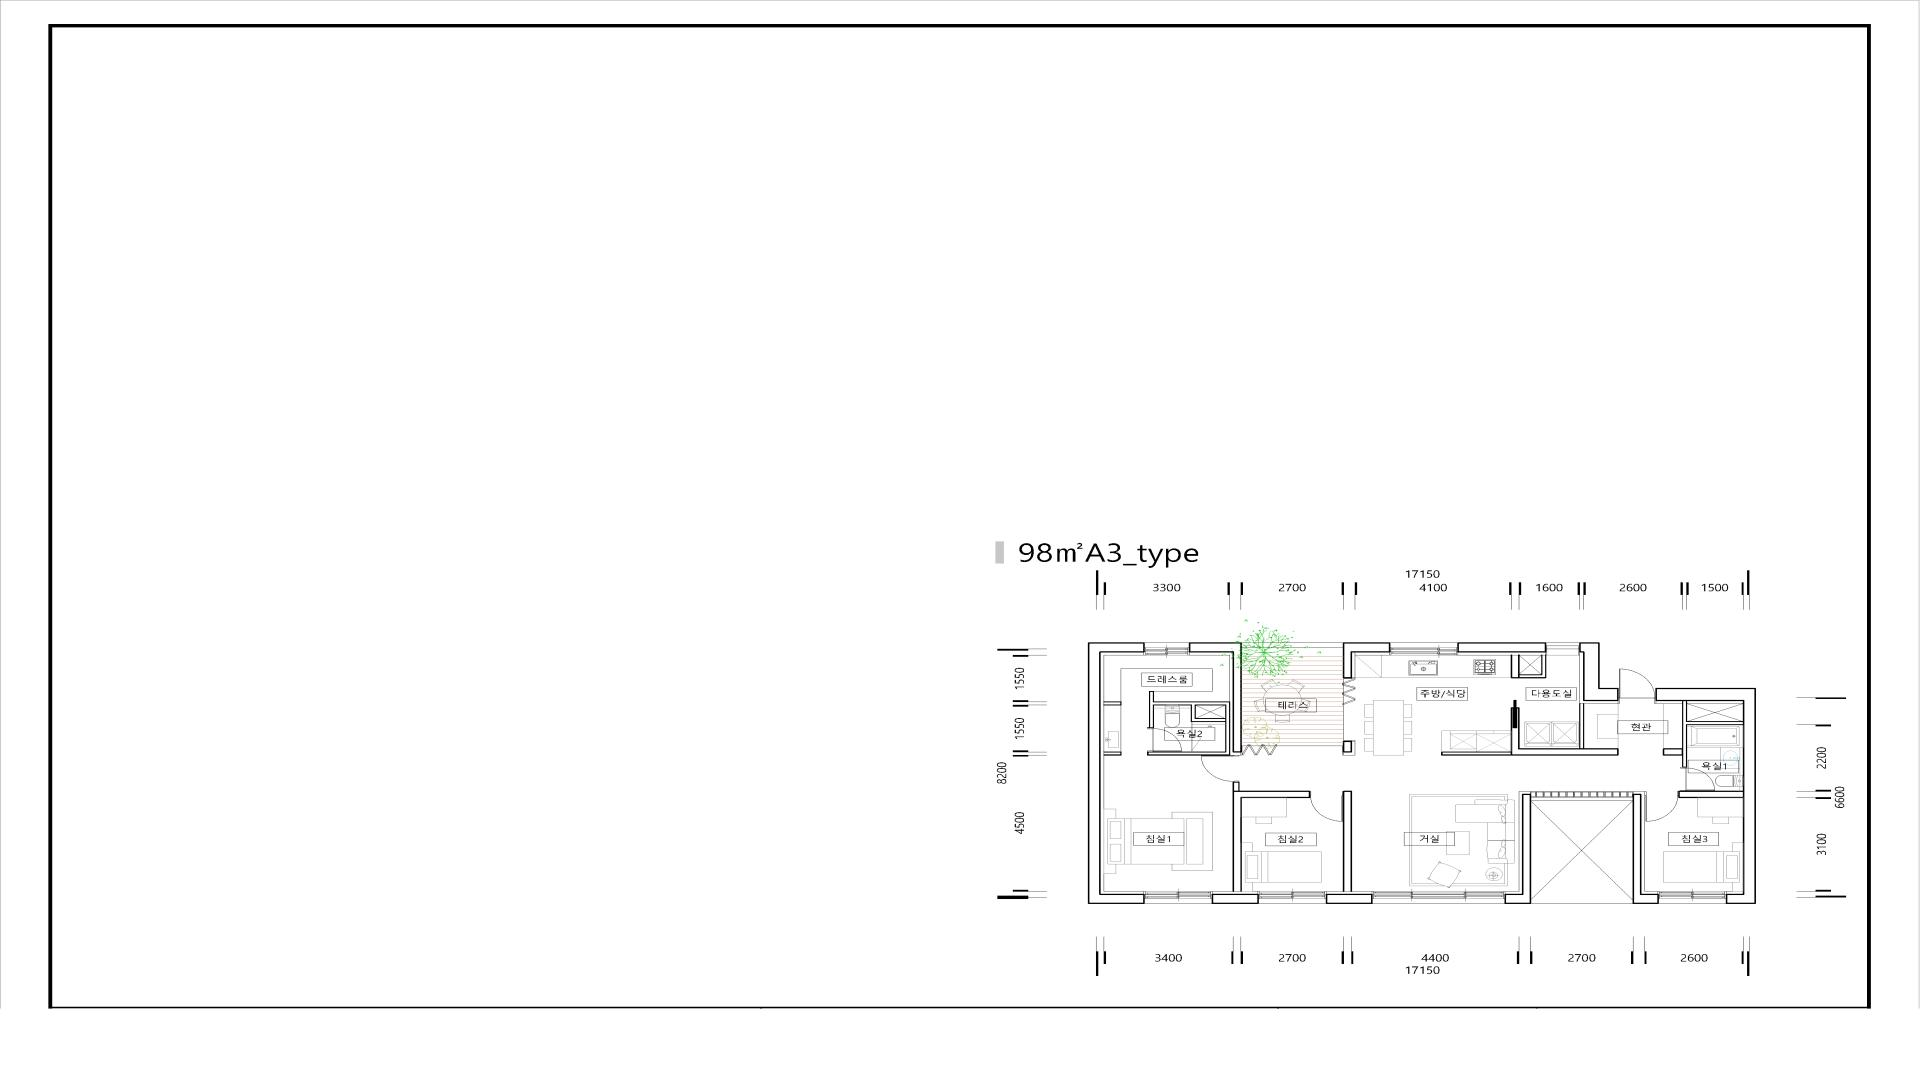door: (1619, 669, 1656, 704), (1644, 791, 1679, 823), (1201, 756, 1240, 782), (1309, 791, 1342, 822), (1680, 767, 1716, 791), (1147, 728, 1182, 752), (1511, 678, 1520, 707), (1191, 736, 1201, 752)
wall: (1656, 687, 1756, 905), (1088, 642, 1143, 905), (1441, 703, 1619, 756), (1233, 782, 1309, 891), (1191, 642, 1242, 753), (1147, 691, 1230, 756), (1663, 702, 1743, 767), (1633, 794, 1658, 905), (1506, 794, 1531, 903), (1580, 642, 1618, 702), (1342, 642, 1389, 678), (1342, 791, 1352, 891), (1458, 642, 1545, 653), (1511, 655, 1547, 678), (1213, 894, 1258, 903), (1327, 894, 1371, 903), (1342, 742, 1352, 753), (1104, 752, 1122, 756), (1104, 702, 1122, 705)
window: (1371, 891, 1506, 903), (1241, 745, 1342, 756), (1531, 791, 1633, 800), (1389, 642, 1458, 655), (1145, 890, 1213, 903), (1658, 891, 1726, 905), (1342, 678, 1356, 742), (1258, 891, 1327, 903), (1143, 642, 1189, 655), (1545, 642, 1580, 655)
